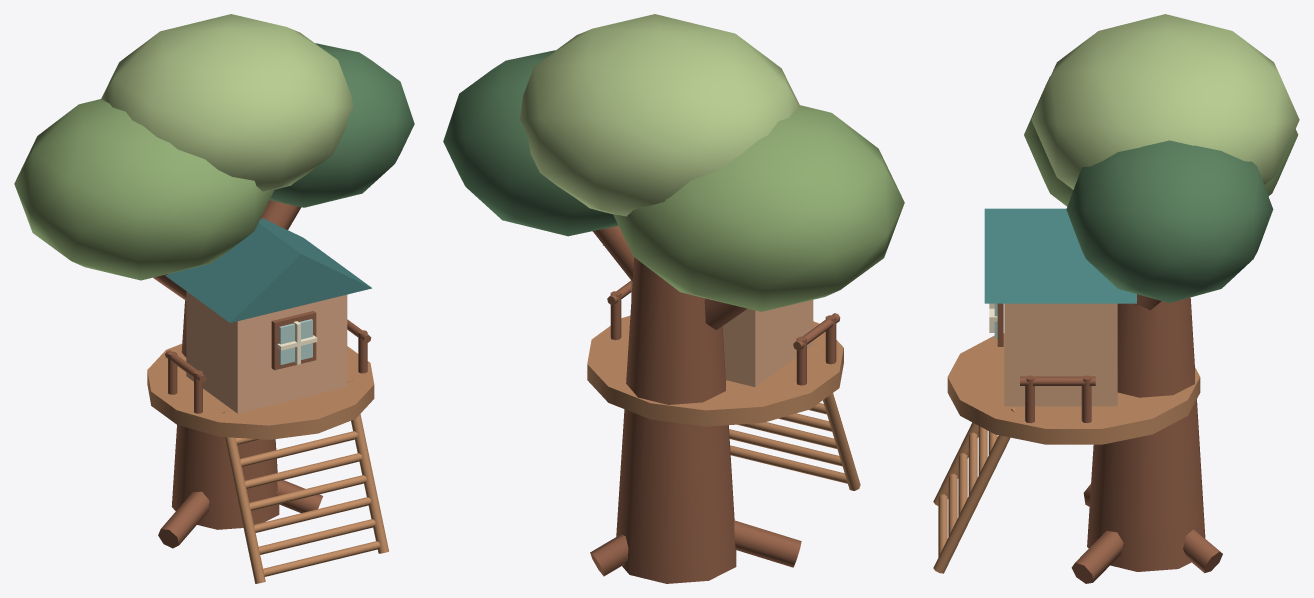
The model's file is treehouse.glb.
3 views of the same model, side by side, from view 1: azimuth 30°, elevation 25°; view 2: azimuth 150°, elevation 25°; view 3: azimuth 270°, elevation 25° (orthographic). The views are drawn at different scales.
Visible parts, largest first — view 1: surface_#b0c58a, surface_#8da970, surface_#be8960, surface_#936047, surface_#e4b18b, surface_#4b8584, surface_#577d5b, surface_#b7d5cf; view 2: surface_#b0c58a, surface_#8da970, surface_#936047, surface_#be8960, surface_#577d5b, surface_#e4b18b; view 3: surface_#b0c58a, surface_#936047, surface_#577d5b, surface_#be8960, surface_#e4b18b, surface_#4b8584, surface_#8da970.
Boxes of the visible parts, box(x1,y1,x2,y2) form: surface_#b0c58a: box(101, 14, 353, 191); surface_#8da970: box(14, 98, 274, 280); surface_#be8960: box(147, 343, 388, 583); surface_#936047: box(153, 200, 371, 548); surface_#e4b18b: box(186, 291, 347, 413); surface_#4b8584: box(165, 218, 371, 322); surface_#577d5b: box(269, 43, 414, 207); surface_#b7d5cf: box(279, 319, 312, 364); surface_#b0c58a: box(520, 14, 799, 216); surface_#8da970: box(613, 105, 904, 311); surface_#936047: box(590, 225, 840, 583); surface_#be8960: box(587, 316, 860, 490); surface_#577d5b: box(443, 50, 618, 236); surface_#e4b18b: box(631, 281, 813, 386); surface_#b0c58a: box(1031, 14, 1299, 189); surface_#936047: box(997, 294, 1222, 583); surface_#577d5b: box(1066, 140, 1273, 302); surface_#be8960: box(933, 333, 1200, 573); surface_#e4b18b: box(1004, 303, 1117, 406); surface_#4b8584: box(984, 208, 1136, 303); surface_#8da970: box(1024, 76, 1298, 206).
Size of the model in its own units: 5.52 by 6.61 by 4.2.
